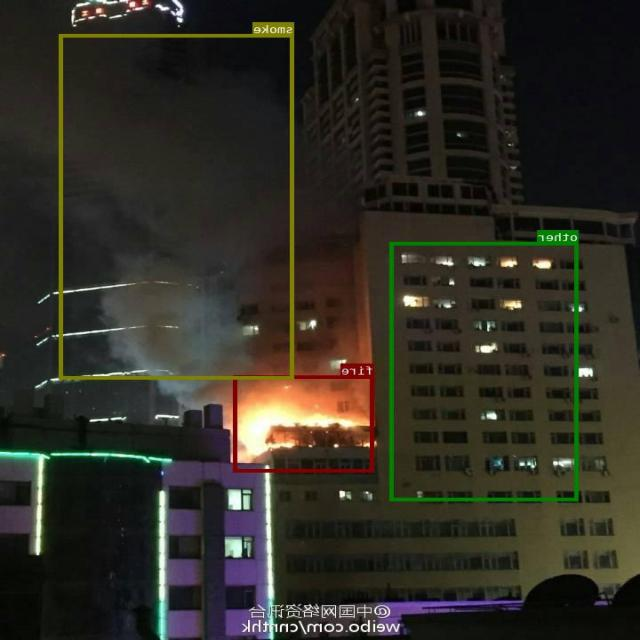fire: (234, 375, 374, 472)
other: (390, 241, 579, 501)
smoke: (60, 34, 294, 378)
